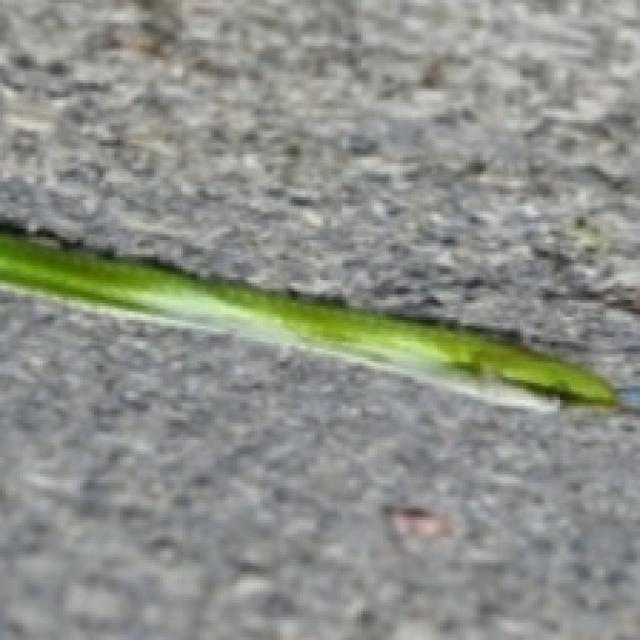red-tailed green ratsnake: (0, 229, 626, 419), (0, 229, 614, 404)
